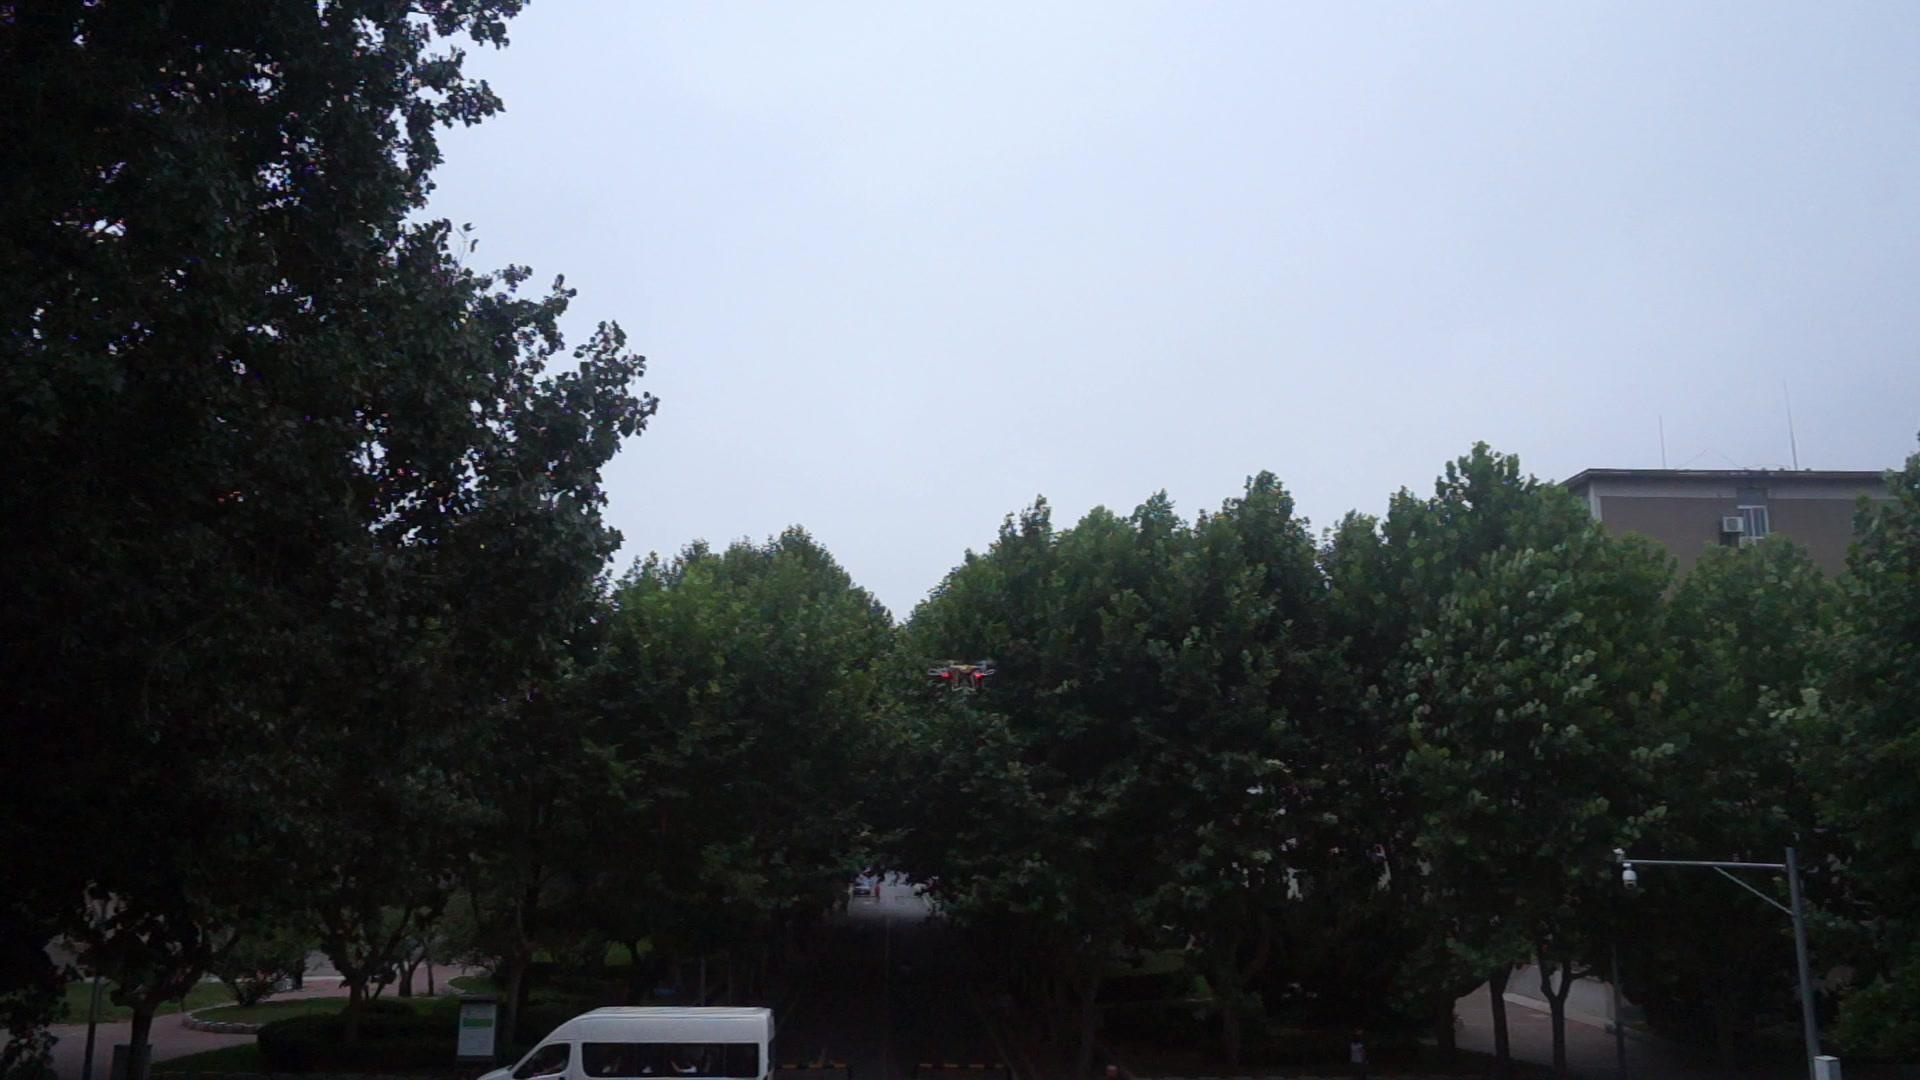UAV: (928, 661, 997, 694)
